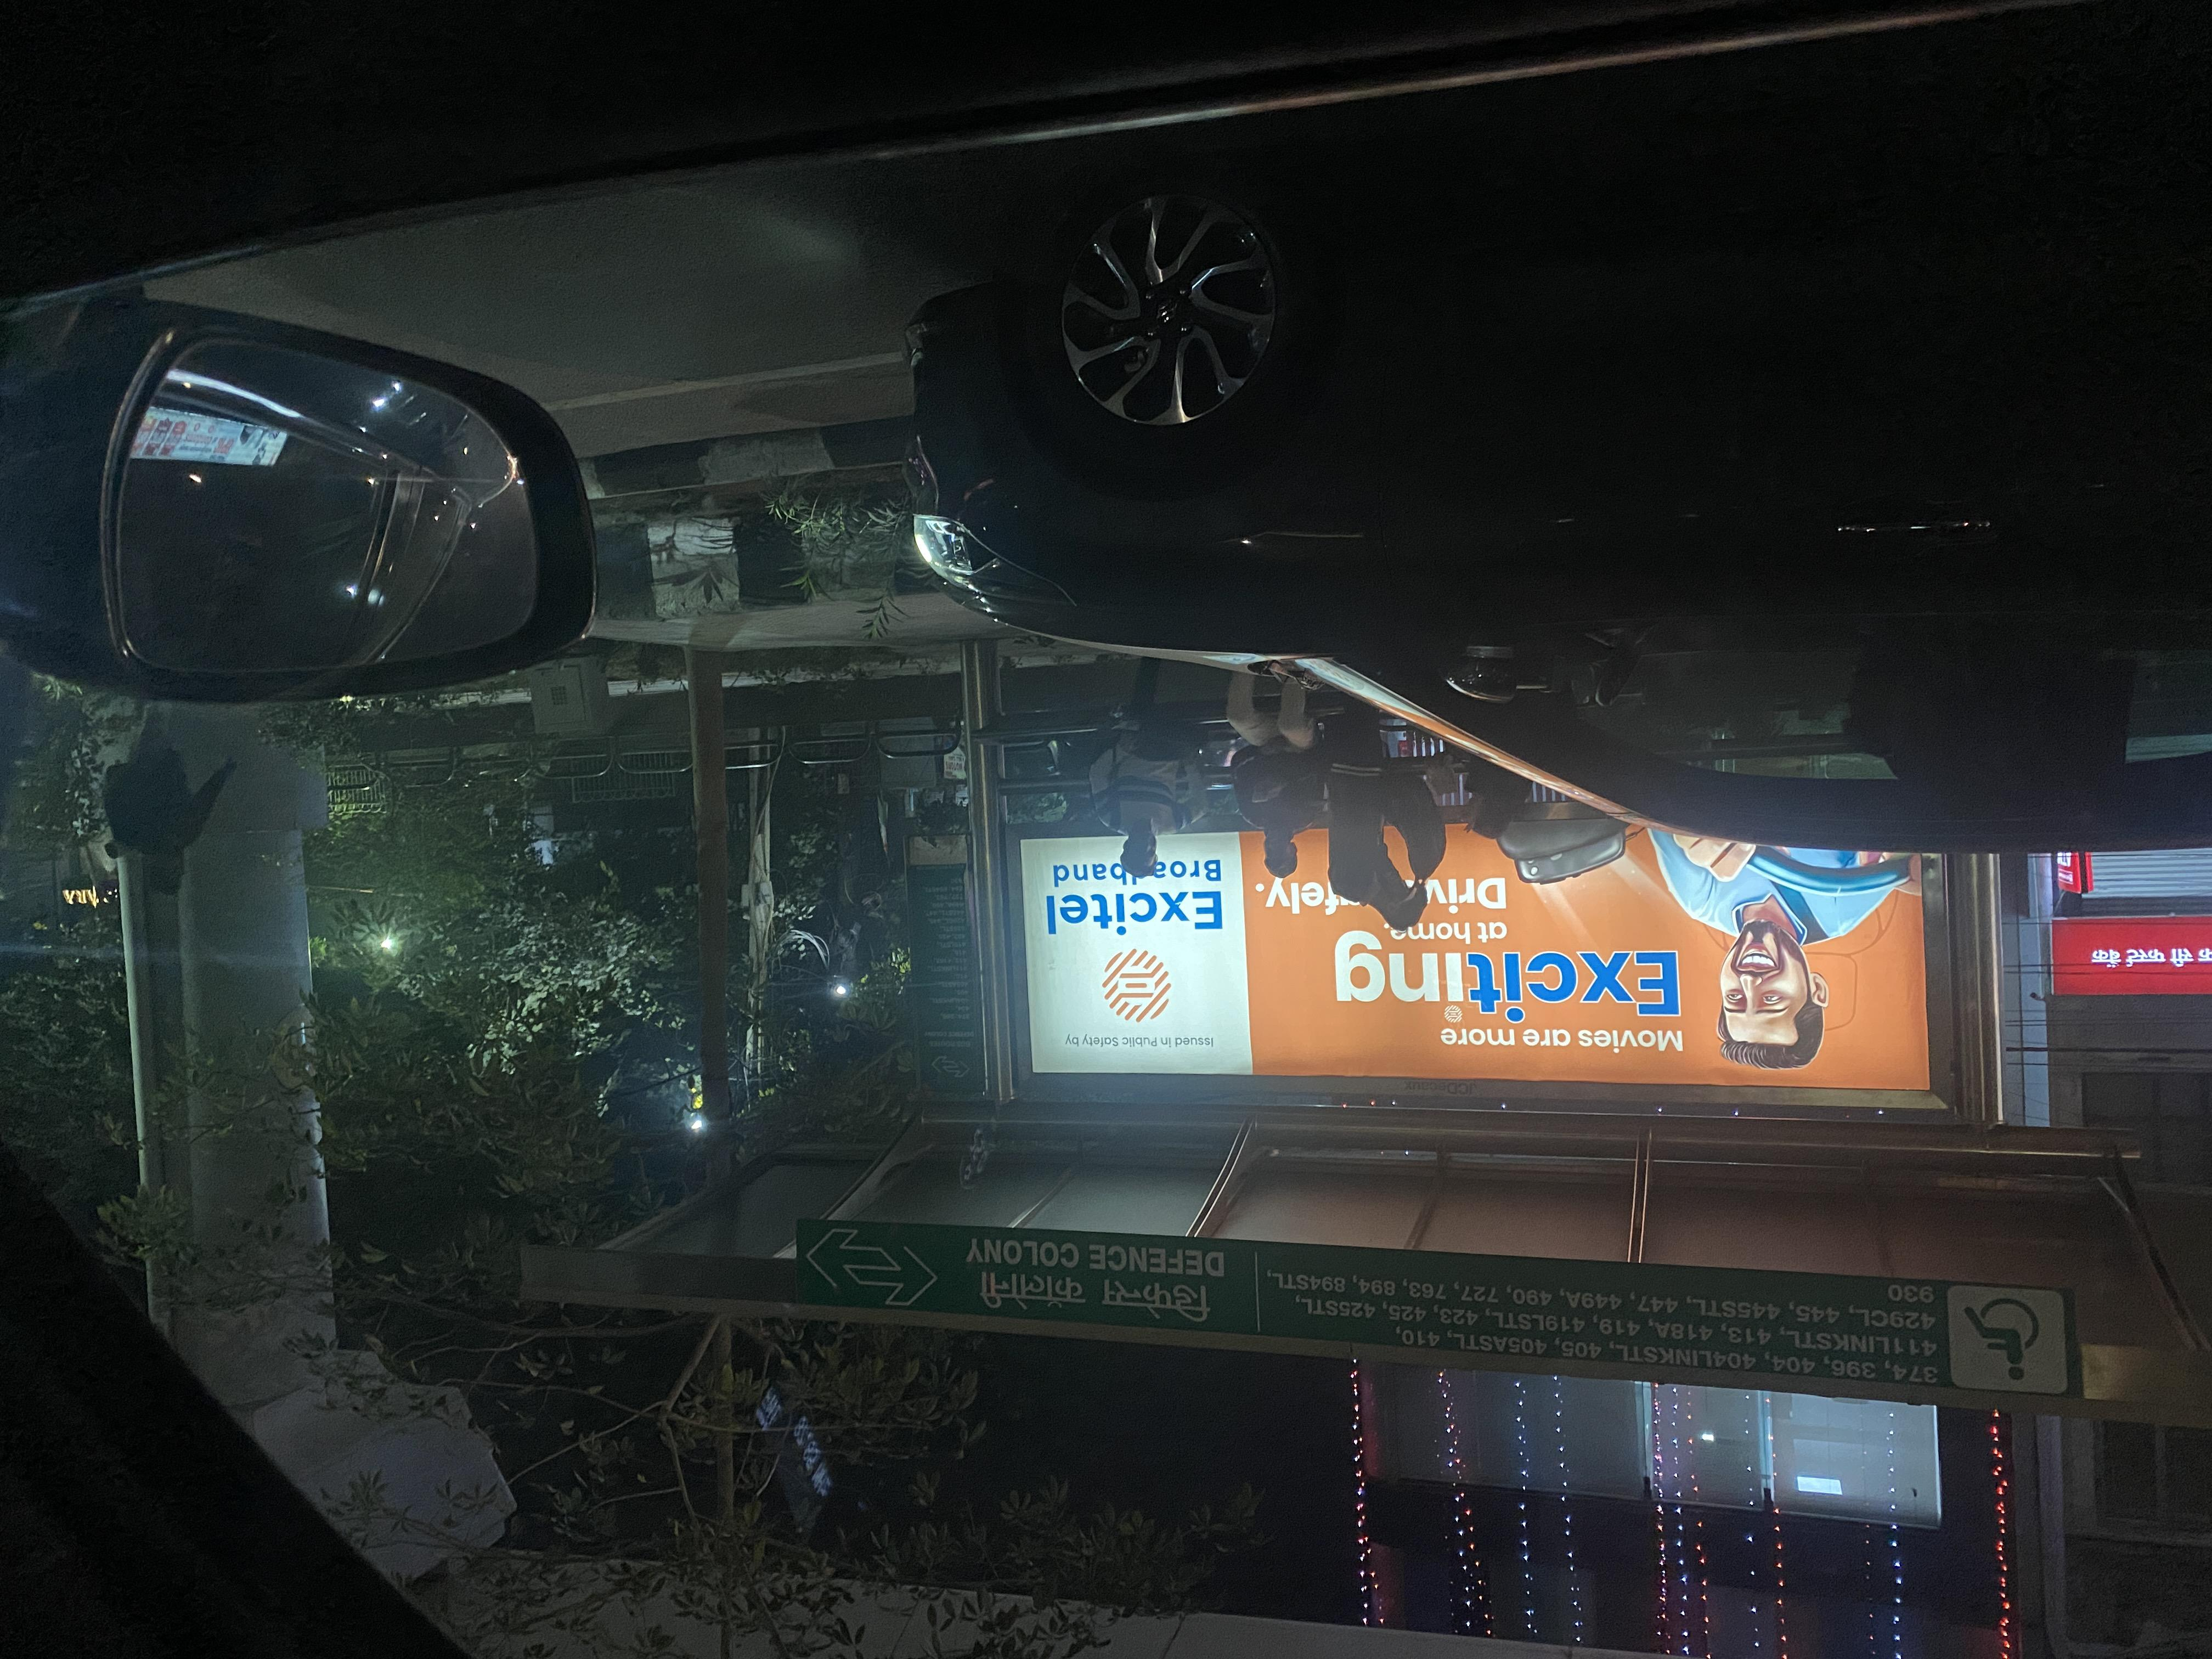Bus-stop-board: (817, 1213, 2090, 1432)
